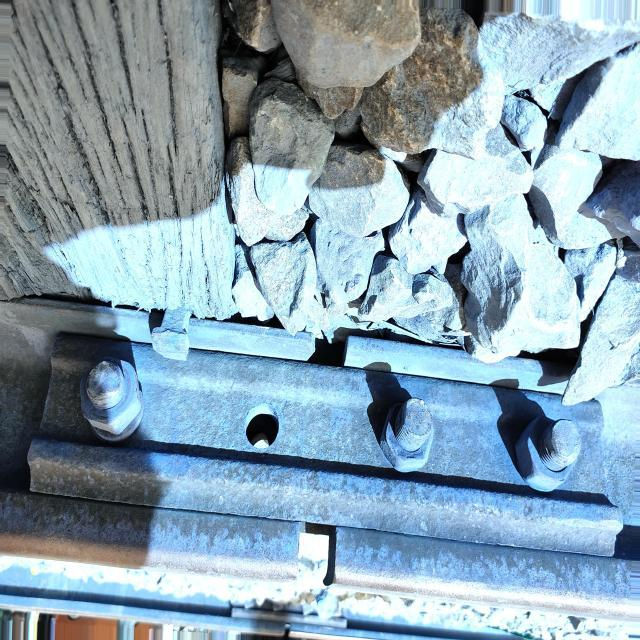Defective Joint: (28, 310, 619, 560)
